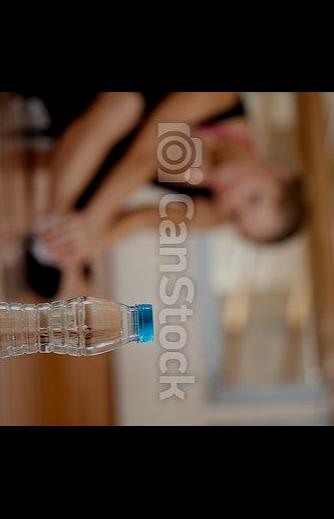bottle: (0, 288, 160, 370)
